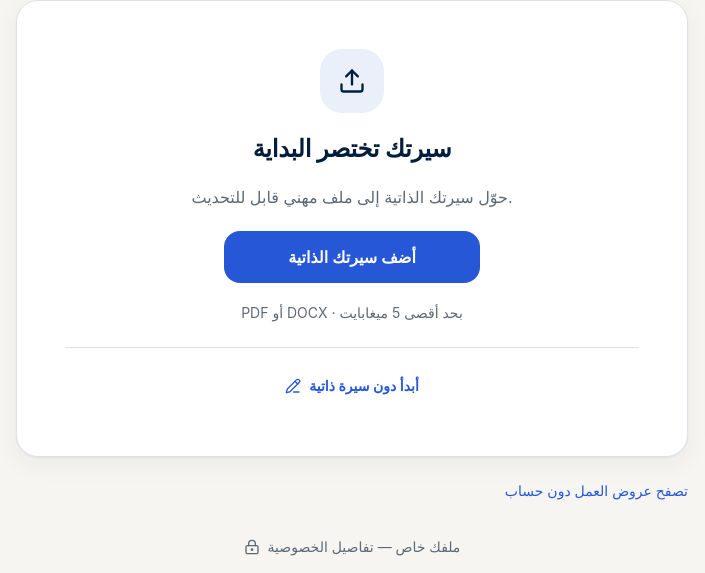
Test: candidate onboarding › offers upload first without uploading or revealing an account
This screenshot has width=705, height=573.
What coordinates should you click on to do the following:
click the button "أضف سيرتك الذاتية"
I would click on:
 (352, 257)
Its box is [224, 231, 480, 283].
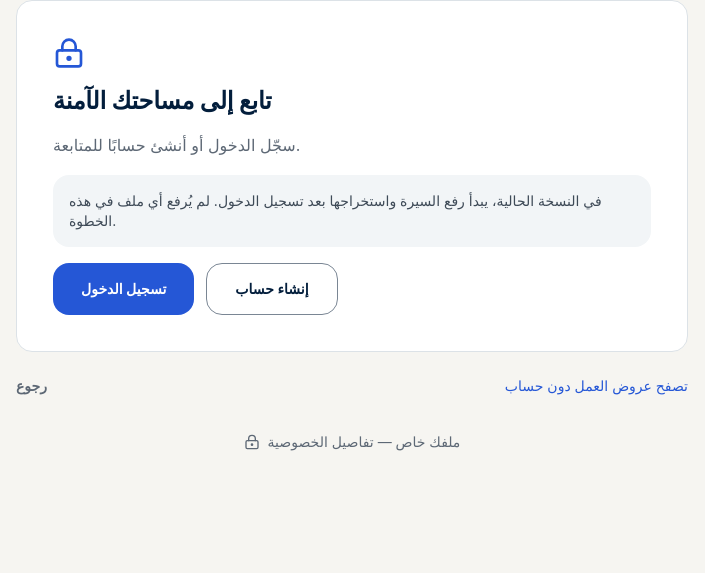
Expected: the text "لم يُرفع أي ملف" is shown, [69, 192, 602, 229]
